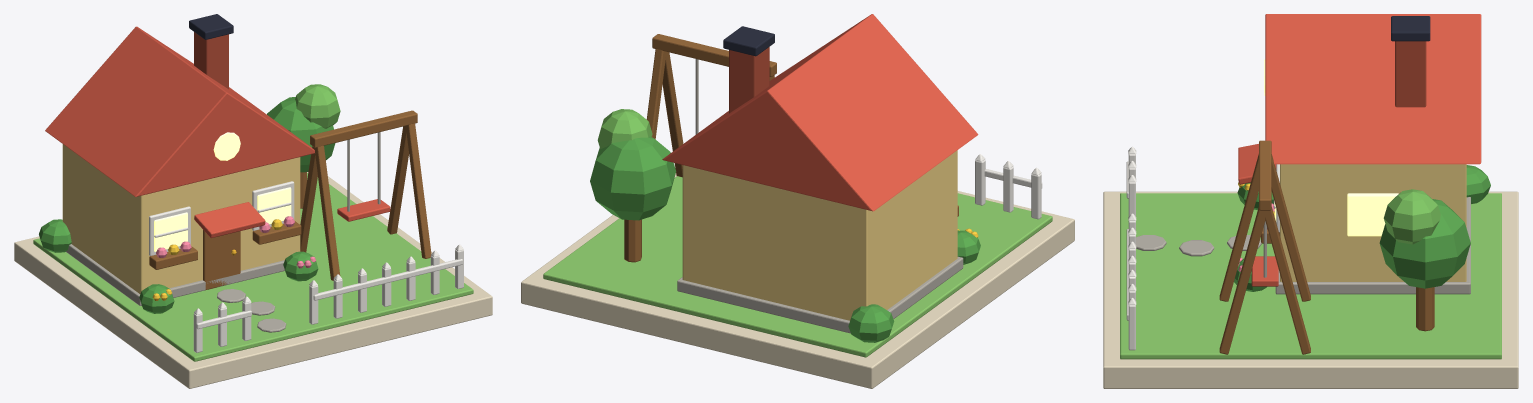
File: home_family.glb
The picture shows the model from 3 angles, left to right: view 1: azimuth 30°, elevation 25°; view 2: azimuth 150°, elevation 25°; view 3: azimuth 270°, elevation 25°; orthographic projection. The views are drawn at different scales.
Parts seen in each view (by area): view 1: HomeFamily; view 2: HomeFamily; view 3: HomeFamily.
Boxes of the visible parts, <box> form: HomeFamily: <box>14,14,492,388</box>; HomeFamily: <box>521,14,1074,388</box>; HomeFamily: <box>1103,14,1518,388</box>.
Bounding box in the file's own units: 2 × 1.48 × 2.
